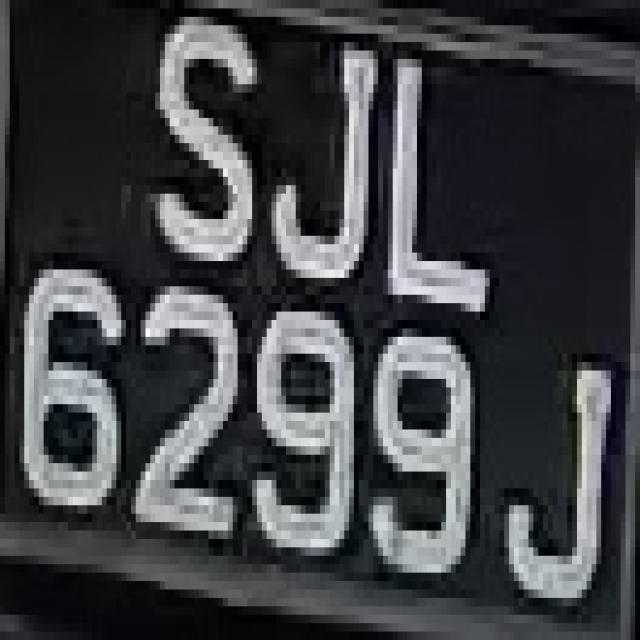2: (116, 261, 242, 581)
6: (10, 219, 111, 539)
9: (247, 261, 364, 581), (354, 303, 480, 590)
J: (494, 320, 611, 632), (262, 17, 378, 328)
L: (373, 42, 490, 320)
S: (140, 17, 266, 278)
